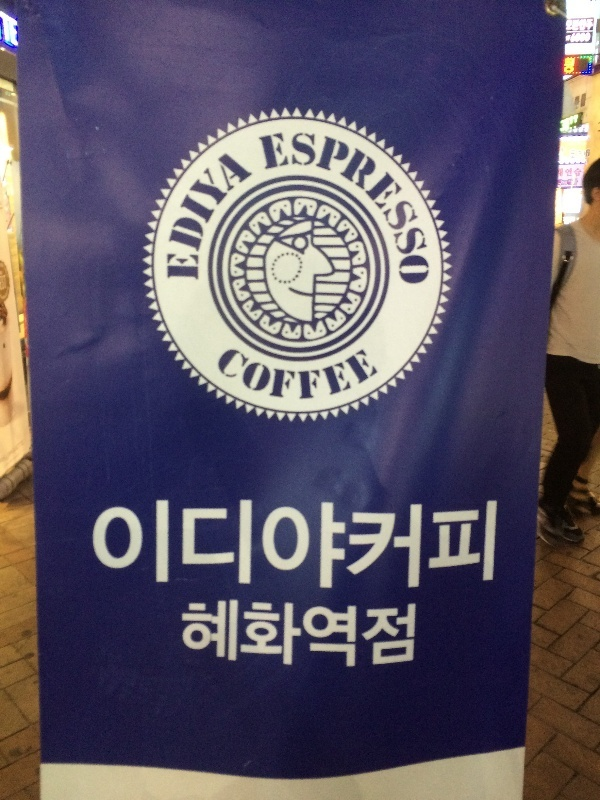text: (273, 132, 288, 305), (289, 132, 304, 305), (305, 132, 320, 305), (321, 132, 336, 305), (337, 132, 352, 305), (353, 132, 368, 305), (369, 132, 384, 305), (385, 132, 400, 305), (401, 132, 416, 305), (417, 132, 432, 305), (259, 132, 272, 305), (193, 144, 208, 280), (209, 144, 224, 280), (225, 144, 240, 280), (241, 144, 254, 280), (113, 501, 128, 594), (129, 501, 144, 594), (145, 501, 160, 594), (161, 501, 176, 594), (177, 501, 192, 594), (193, 501, 208, 594), (209, 501, 224, 594), (225, 501, 240, 594), (241, 501, 256, 594), (257, 501, 272, 594), (273, 501, 288, 594), (289, 501, 304, 594), (305, 501, 320, 594), (321, 501, 336, 594), (337, 501, 352, 594), (353, 501, 368, 594), (369, 501, 384, 594), (385, 501, 400, 594), (401, 501, 416, 594), (417, 501, 432, 594), (433, 501, 448, 594), (449, 501, 464, 594), (465, 501, 480, 594), (481, 501, 496, 594), (98, 501, 112, 594), (193, 603, 208, 673), (209, 603, 224, 673), (225, 603, 240, 673), (241, 603, 256, 673), (257, 603, 272, 673), (273, 603, 288, 673), (289, 603, 304, 673), (305, 603, 320, 673), (321, 603, 336, 673), (337, 603, 352, 673), (353, 603, 368, 673), (369, 603, 384, 673), (385, 603, 400, 673), (401, 603, 416, 673), (225, 350, 240, 419), (241, 350, 256, 419), (257, 350, 272, 419), (273, 350, 288, 419), (289, 350, 304, 419), (305, 350, 320, 419), (321, 350, 336, 419), (337, 350, 352, 419), (353, 350, 368, 419), (369, 350, 379, 419), (183, 603, 192, 673), (1, 12, 16, 50), (561, 138, 576, 166), (577, 138, 588, 166), (190, 144, 192, 280), (561, 115, 576, 133), (1, 274, 16, 290), (1, 276, 16, 290), (565, 57, 576, 75), (577, 20, 592, 32), (433, 132, 434, 305), (577, 33, 592, 44), (222, 350, 224, 419), (566, 33, 576, 44), (567, 20, 576, 32), (561, 179, 576, 186), (566, 168, 576, 178), (497, 501, 498, 594), (17, 12, 19, 50), (577, 168, 581, 178), (577, 115, 579, 133), (577, 179, 581, 186), (558, 169, 560, 178), (561, 169, 563, 178), (558, 179, 560, 186), (593, 20, 594, 32)
